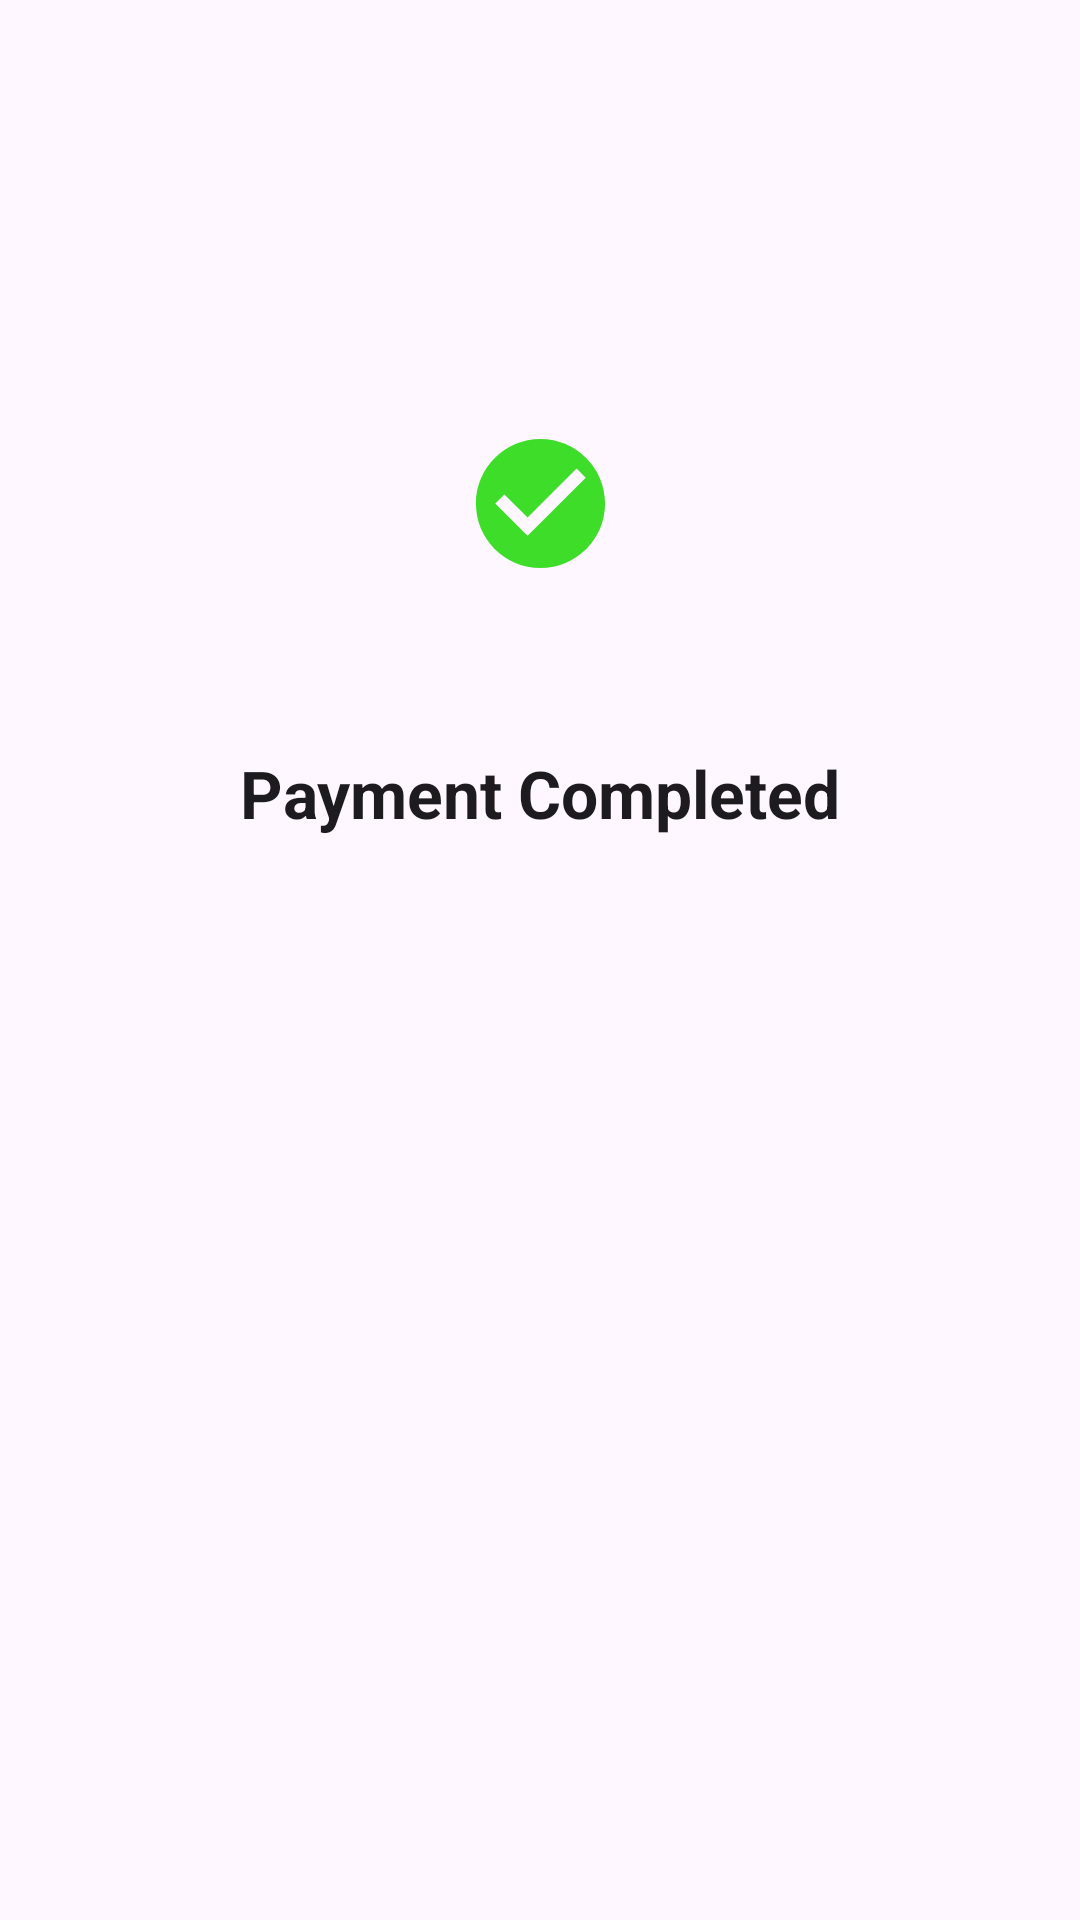

Where icons sit on this 1080w x 1920h app screen, as (x1, y1, x2, y2):
check circle: (476, 439, 605, 568)
